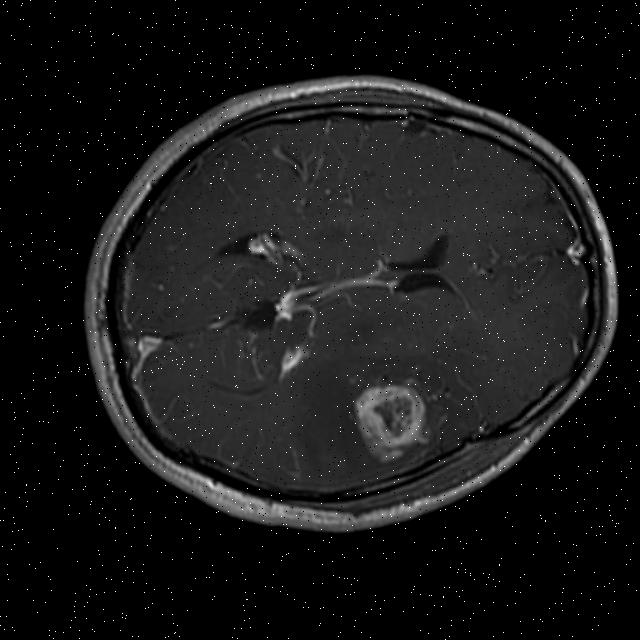Glioma: (348, 376, 437, 469)
